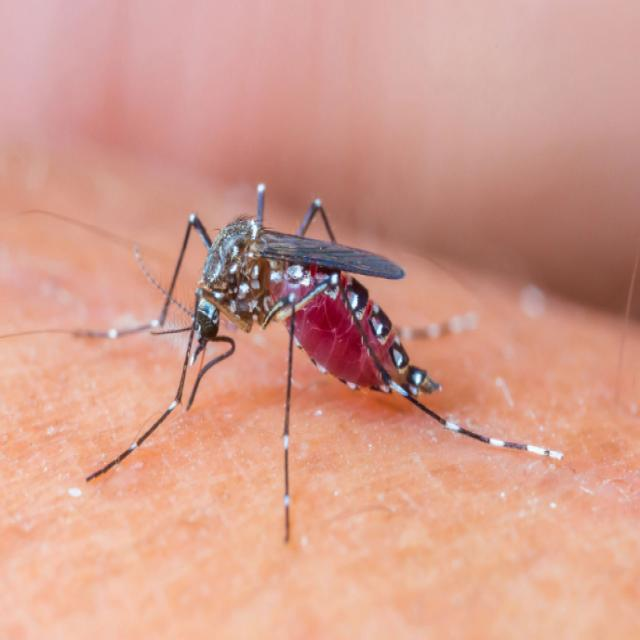Mosquito: (86, 113, 519, 558)
